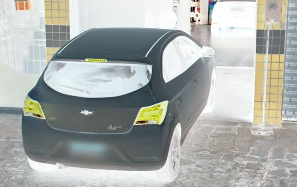car: (21, 27, 217, 182)
